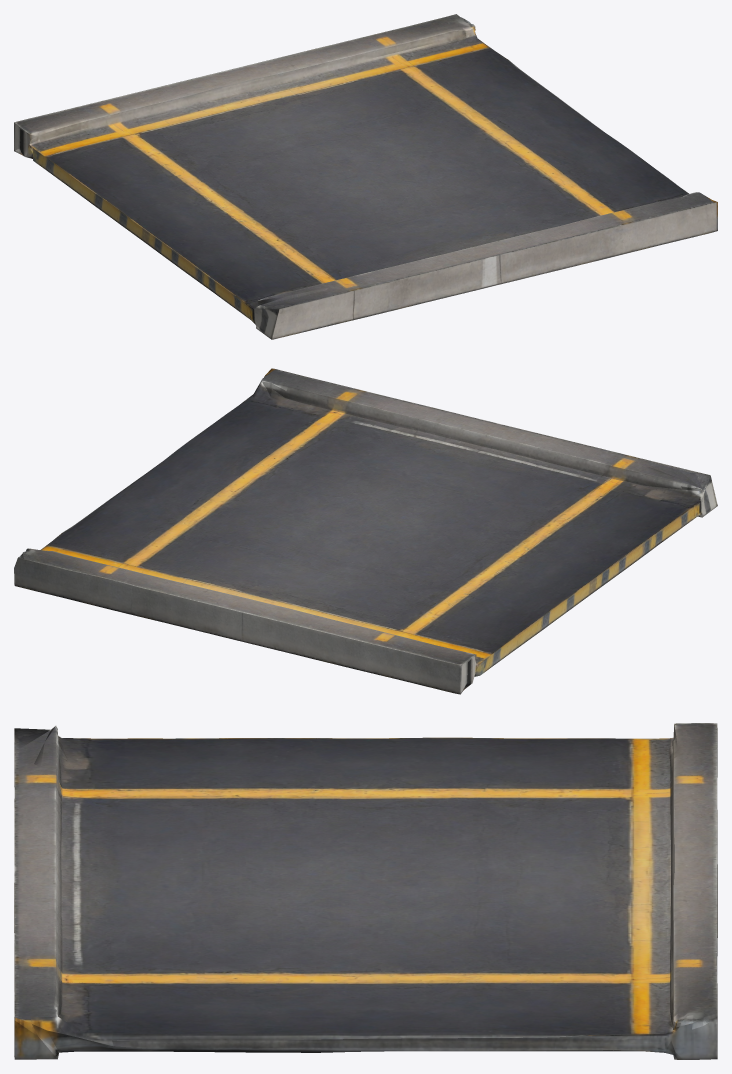
File: track_3d.glb
3 views of the same model, one above another, from view 1: azimuth 30°, elevation 25°; view 2: azimuth 150°, elevation 25°; view 3: azimuth 270°, elevation 25° (orthographic). The views are drawn at different scales.
Parts seen in each view (by area): view 1: Mesh0; view 2: Mesh0; view 3: Mesh0.
Boxes of the visible parts, box(x1,y1,x2,y2) form: Mesh0: box(14, 14, 717, 339); Mesh0: box(14, 368, 717, 694); Mesh0: box(14, 723, 717, 1059).
Size of the model in its own units: 2 by 0.1286 by 2.
1 material, 1 textured.
